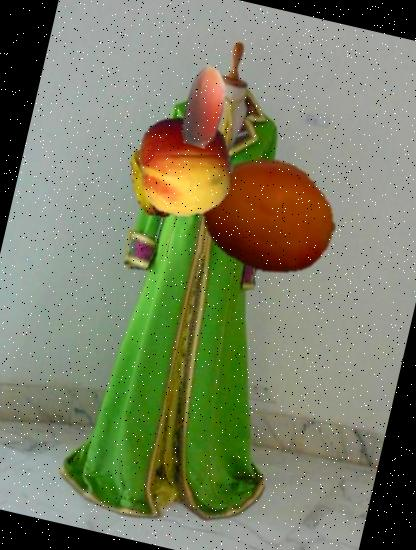Apple: (127, 108, 246, 227)
Apricot: (188, 134, 350, 296)
Carambula: (112, 138, 198, 224)
Hazelnut: (154, 55, 256, 156)
